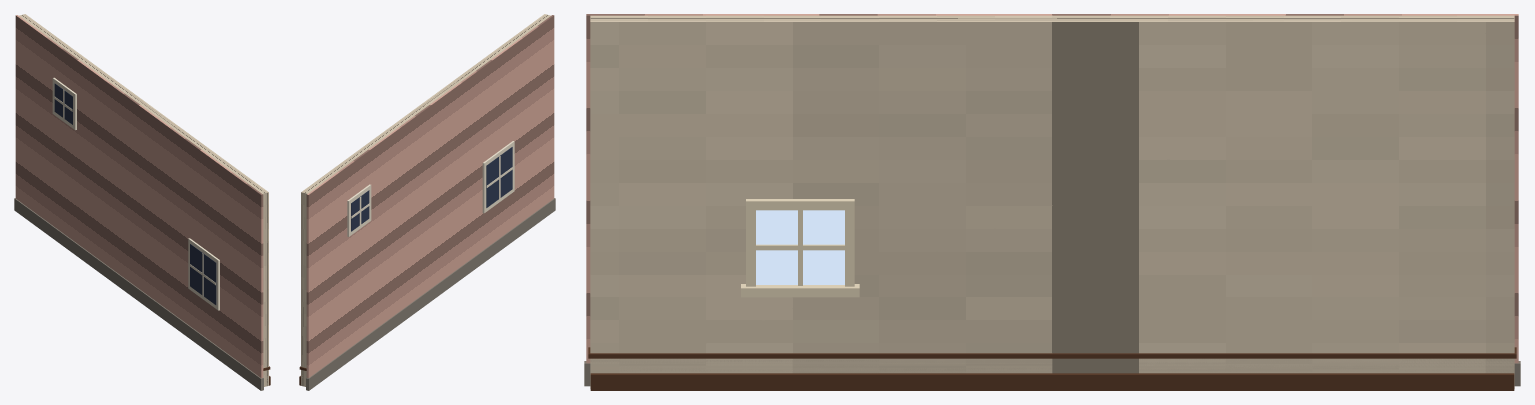
Rendered from right.glb.
3 views of the same model, side by side, from view 1: azimuth 30°, elevation 25°; view 2: azimuth 150°, elevation 25°; view 3: azimuth 270°, elevation 25° (orthographic). The views are drawn at different scales.
Visible parts, largest first — view 1: Box3, Box4, Box1, Box6, Box5, Box17, Box16; view 2: Box3, Box4, Box1, Box6, Box5, Box17, Box16; view 3: Box1, Box2, Box20, Box13, Box21, Box3, Box10, Box9.
Boxes of the visible parts, x1=… form: Box3: x1=15, y1=15, x2=263, y2=378; Box4: x1=14, y1=198, x2=263, y2=390; Box1: x1=19, y1=14, x2=268, y2=386; Box6: x1=190, y1=244, x2=216, y2=304; Box5: x1=188, y1=238, x2=219, y2=310; Box17: x1=54, y1=83, x2=72, y2=124; Box16: x1=52, y1=77, x2=76, y2=130; Box3: x1=306, y1=15, x2=554, y2=378; Box4: x1=306, y1=198, x2=555, y2=390; Box1: x1=301, y1=14, x2=550, y2=386; Box6: x1=486, y1=147, x2=512, y2=207; Box5: x1=482, y1=141, x2=514, y2=213; Box17: x1=351, y1=190, x2=369, y2=231; Box16: x1=347, y1=184, x2=371, y2=236; Box1: x1=590, y1=15, x2=1514, y2=388; Box2: x1=590, y1=373, x2=1514, y2=390; Box20: x1=590, y1=358, x2=1514, y2=386; Box13: x1=756, y1=210, x2=844, y2=284; Box21: x1=588, y1=347, x2=1516, y2=358; Box3: x1=586, y1=14, x2=1518, y2=363; Box10: x1=741, y1=284, x2=859, y2=297; Box9: x1=746, y1=199, x2=854, y2=210.
Size of the model in its own units: 0.338 by 4.14 by 9.47.
Materials: 8 (2 with a texture image).
